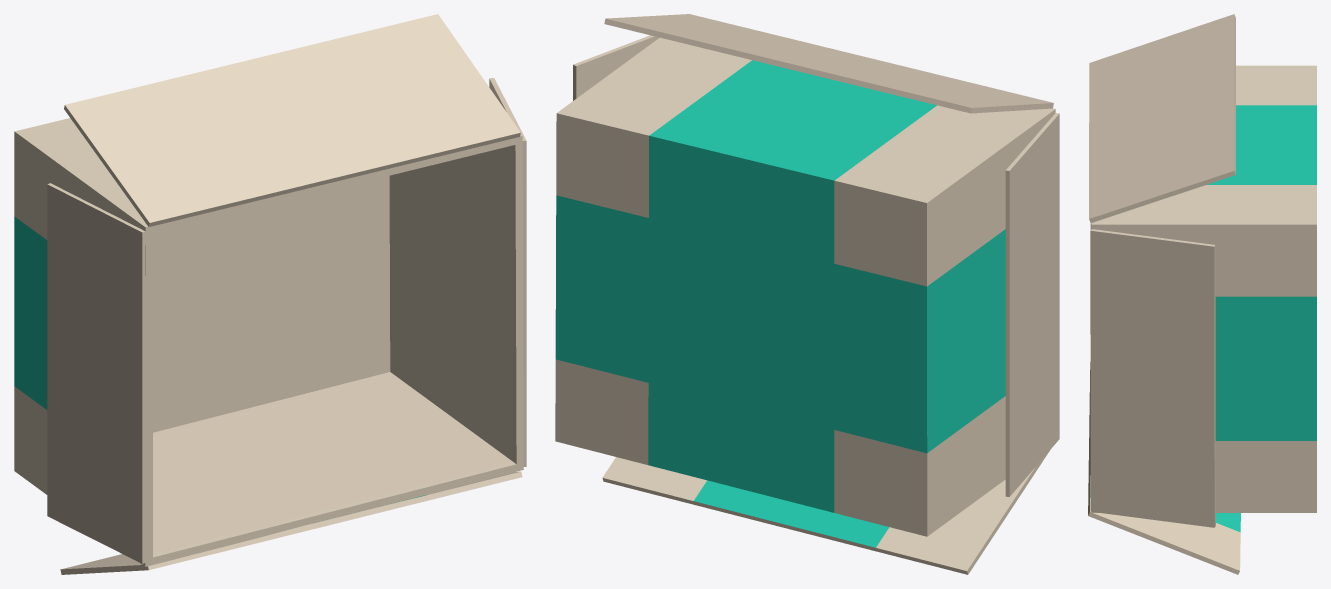
The model's file is PackingBoxOpen.fbx.
3 renders of one model, left to right at view 1: azimuth 30°, elevation 25°; view 2: azimuth 150°, elevation 25°; view 3: azimuth 270°, elevation 25°, orthographic. The views are drawn at different scales.
Parts seen in each view (by area): view 1: PackingBoxOpenBase.002, PackingBoxRight.002, PackingBoxTop.002, PackingBoxLeft.002, PackingBoxBottom.002; view 2: PackingBoxOpenBase.002, PackingBoxTop.002, PackingBoxLeft.002, PackingBoxRight.002, PackingBoxBottom.002; view 3: PackingBoxOpenBase.002, PackingBoxBottom.002, PackingBoxRight.002, PackingBoxLeft.002.
Part boxes in pixels (<box>): PackingBoxOpenBase.002: <box>14,118,523,566</box>; PackingBoxRight.002: <box>64,14,520,226</box>; PackingBoxTop.002: <box>47,183,145,563</box>; PackingBoxLeft.002: <box>60,471,522,574</box>; PackingBoxBottom.002: <box>489,78,526,466</box>; PackingBoxOpenBase.002: <box>555,37,1055,536</box>; PackingBoxTop.002: <box>1005,113,1059,496</box>; PackingBoxLeft.002: <box>602,450,1049,574</box>; PackingBoxRight.002: <box>604,14,1053,113</box>; PackingBoxBottom.002: <box>573,35,659,100</box>; PackingBoxOpenBase.002: <box>1091,65,1316,512</box>; PackingBoxBottom.002: <box>1090,229,1215,527</box>; PackingBoxRight.002: <box>1089,14,1235,222</box>; PackingBoxLeft.002: <box>1088,362,1240,574</box>.
Size of the model in its own units: 13855 by 14041 by 7156.
